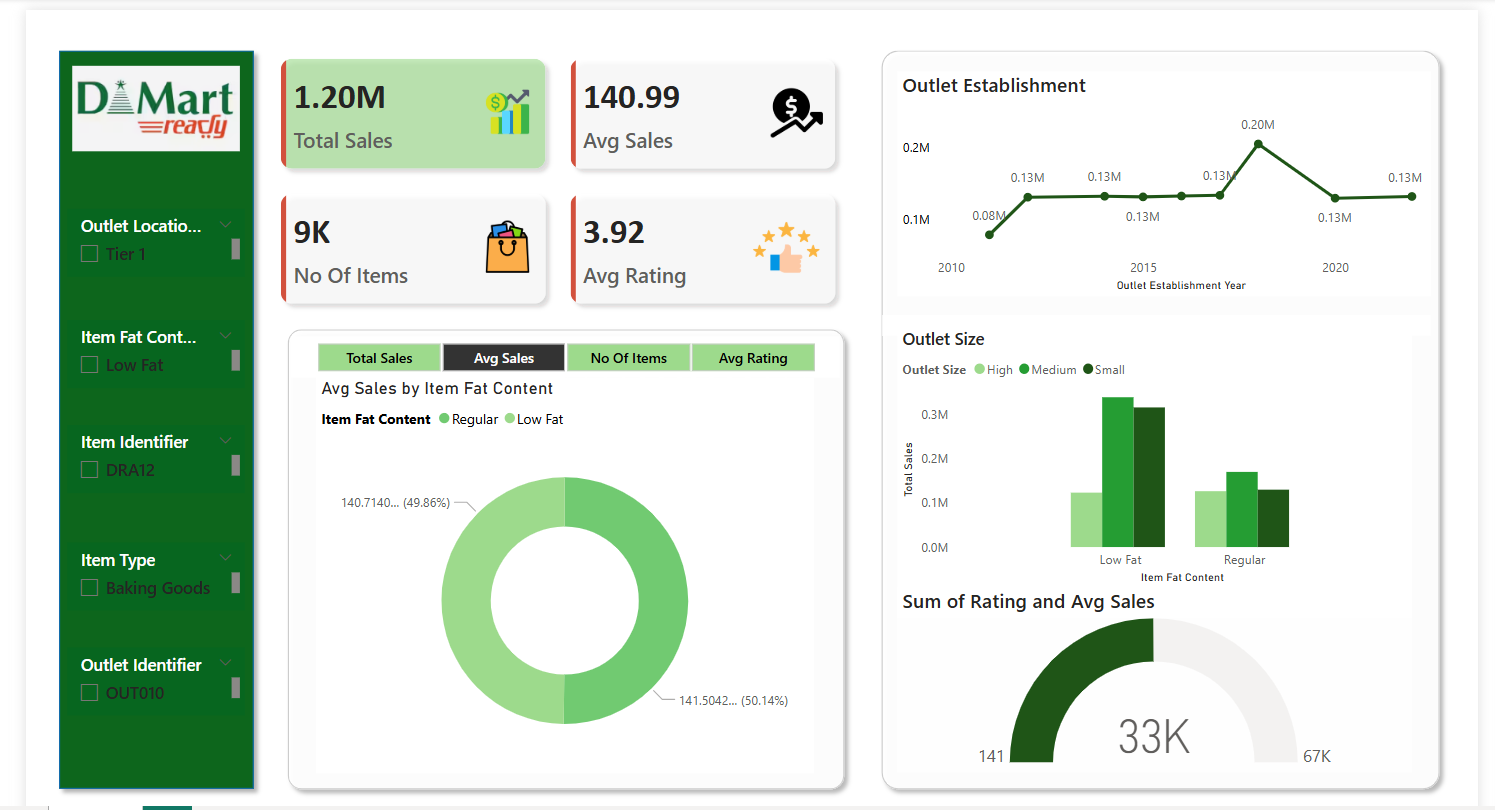

The page's visual inventory and layout, read from the dashboard file:
{"tool":"powerbi","page":{"name":"Page 1","canvas":[1400,800],"ordinal":0},"visuals":[{"type":"shape","box":[22.9,30,205.7,730],"z":0},{"type":"image","box":[40,48.6,171.4,92.9],"z":1000},{"type":"cardVisual","fields":{"Data":["BlinkIT Grocery Data.Total Sales","BlinkIT Grocery Data.Avg Sales","BlinkIT Grocery Data.No Of Items","BlinkIT Grocery Data.Avg Rating"]},"box":[228.6,30,568.6,270],"z":2000},{"type":"shape","box":[242.9,298.6,554.3,461.4],"z":3000},{"type":"donutChart","fields":{"Y":["BlinkIT Grocery Data.Avg Sales"],"Category":["BlinkIT Grocery Data.Item Fat Content"]},"box":[280,354.3,480,381.4],"z":4000},{"type":"slicer","fields":{"Values":["Metrics.Metrics"]},"box":[255.7,314.3,528.6,40],"z":5000},{"type":"shape","box":[815.7,30,555.7,730],"z":6000},{"type":"lineChart","title":"Outlet Establishment ","fields":{"Y":["BlinkIT Grocery Data.Total Sales"],"Category":["BlinkIT Grocery Data.Outlet Establishment Year"]},"box":[840,58.6,514.3,217.1],"z":7000},{"type":"shape","box":[825.7,294.3,528.6,20],"z":8000},{"type":"clusteredColumnChart","title":"Outlet Size","fields":{"Category":["BlinkIT Grocery Data.Item Fat Content"],"Y":["BlinkIT Grocery Data.Total Sales"],"Series":["BlinkIT Grocery Data.Outlet Size"]},"box":[840,304.3,495.7,252.9],"z":9000},{"type":"gauge","fields":{"Y":["Sum(BlinkIT Grocery Data.Rating)"],"MinValue":["BlinkIT Grocery Data.Avg Sales"]},"box":[840,557.1,495.7,178.6],"z":10000},{"type":"slicer","fields":{"Values":["BlinkIT Grocery Data.Item Fat Content"]},"box":[40,298.6,171.4,65.7],"z":12000},{"type":"slicer","fields":{"Values":["BlinkIT Grocery Data.Outlet Location Type"]},"box":[40,191.4,171.4,65.7],"z":12001},{"type":"slicer","fields":{"Values":["BlinkIT Grocery Data.Item Identifier"]},"box":[40,400,171.4,65.7],"z":12002},{"type":"slicer","fields":{"Values":["BlinkIT Grocery Data.Item Type"]},"box":[40,512.9,171.4,65.7],"z":12003},{"type":"slicer","fields":{"Values":["BlinkIT Grocery Data.Outlet Identifier"]},"box":[40,614.3,171.4,65.7],"z":12004}]}

Visuals, with their boxes in screenshot pixels (x1, y1, x2, y2):
shape: 53,83,251,786
image: 70,101,235,191
cardVisual - BlinkIT Grocery Data.Total Sales x BlinkIT Grocery Data.Avg Sales: 251,83,799,343
shape: 265,342,799,786
donutChart - BlinkIT Grocery Data.Avg Sales x BlinkIT Grocery Data.Item Fat Content: 301,396,763,763
slicer - Metrics.Metrics: 277,357,786,396
shape: 817,83,1352,786
"Outlet Establishment " lineChart: 840,111,1335,320
shape: 826,338,1335,357
"Outlet Size" clusteredColumnChart: 840,348,1317,591
gauge - Sum(BlinkIT Grocery Data.Rating) x BlinkIT Grocery Data.Avg Sales: 840,591,1317,763
slicer - BlinkIT Grocery Data.Item Fat Content: 70,342,235,405
slicer - BlinkIT Grocery Data.Outlet Location Type: 70,239,235,302
slicer - BlinkIT Grocery Data.Item Identifier: 70,440,235,503
slicer - BlinkIT Grocery Data.Item Type: 70,548,235,612
slicer - BlinkIT Grocery Data.Outlet Identifier: 70,646,235,709
